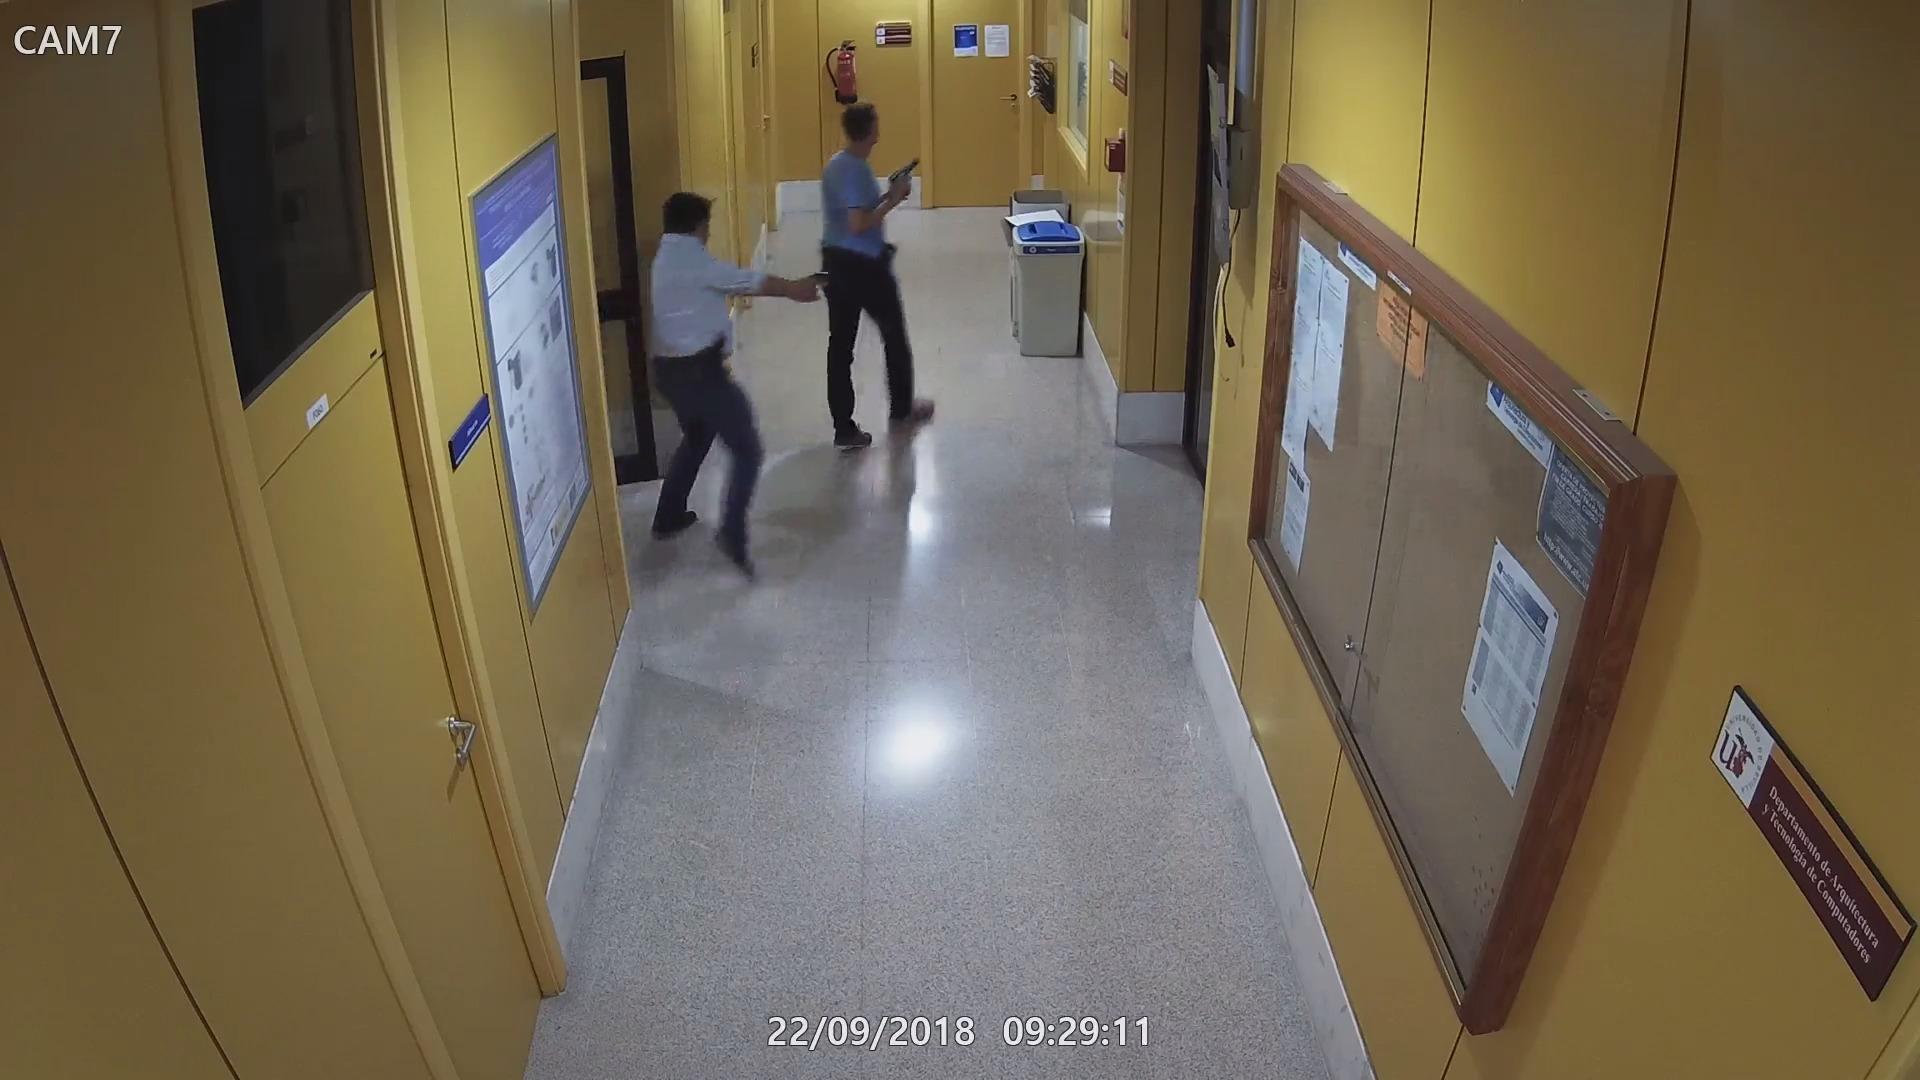Handgun: (796, 265, 843, 301), (887, 156, 922, 199)
